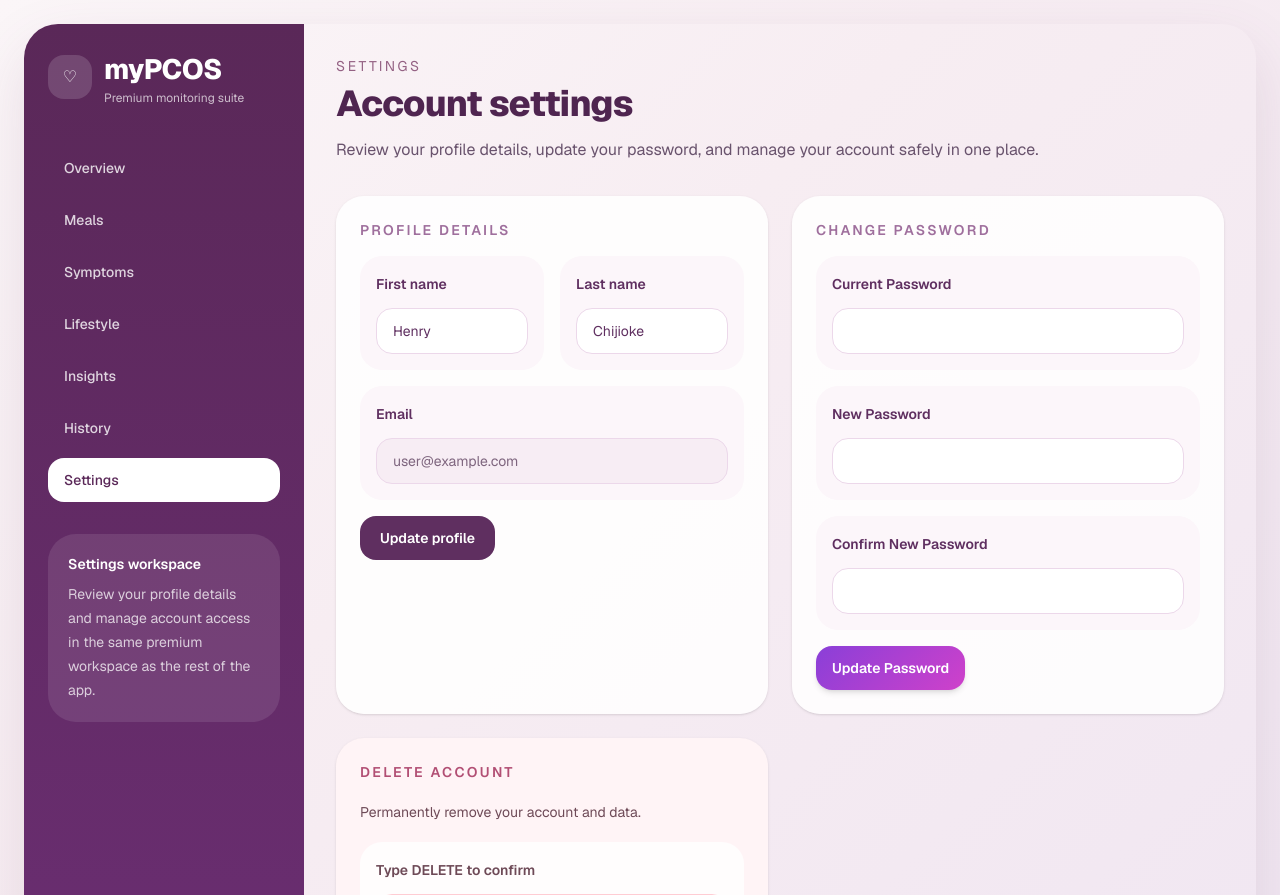
Scenario: shows an error when the current password is incorrect
The image size is (1280, 895).
In the password field labelled "Current Password": (1008, 331) [832,308,1184,354], type "WrongPass123"
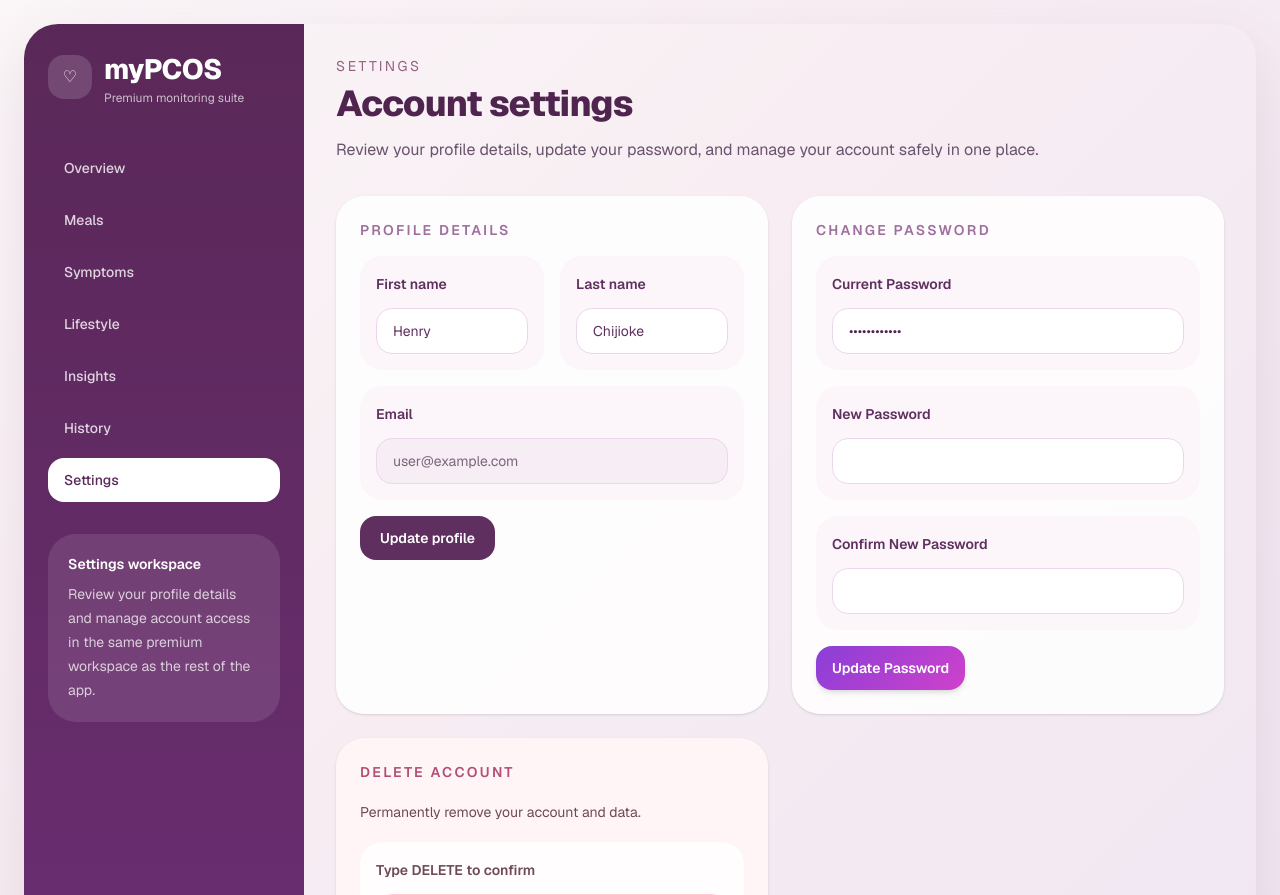
In the password field labelled "New Password": (1008, 461) [832,438,1184,484], type "NewPass456"
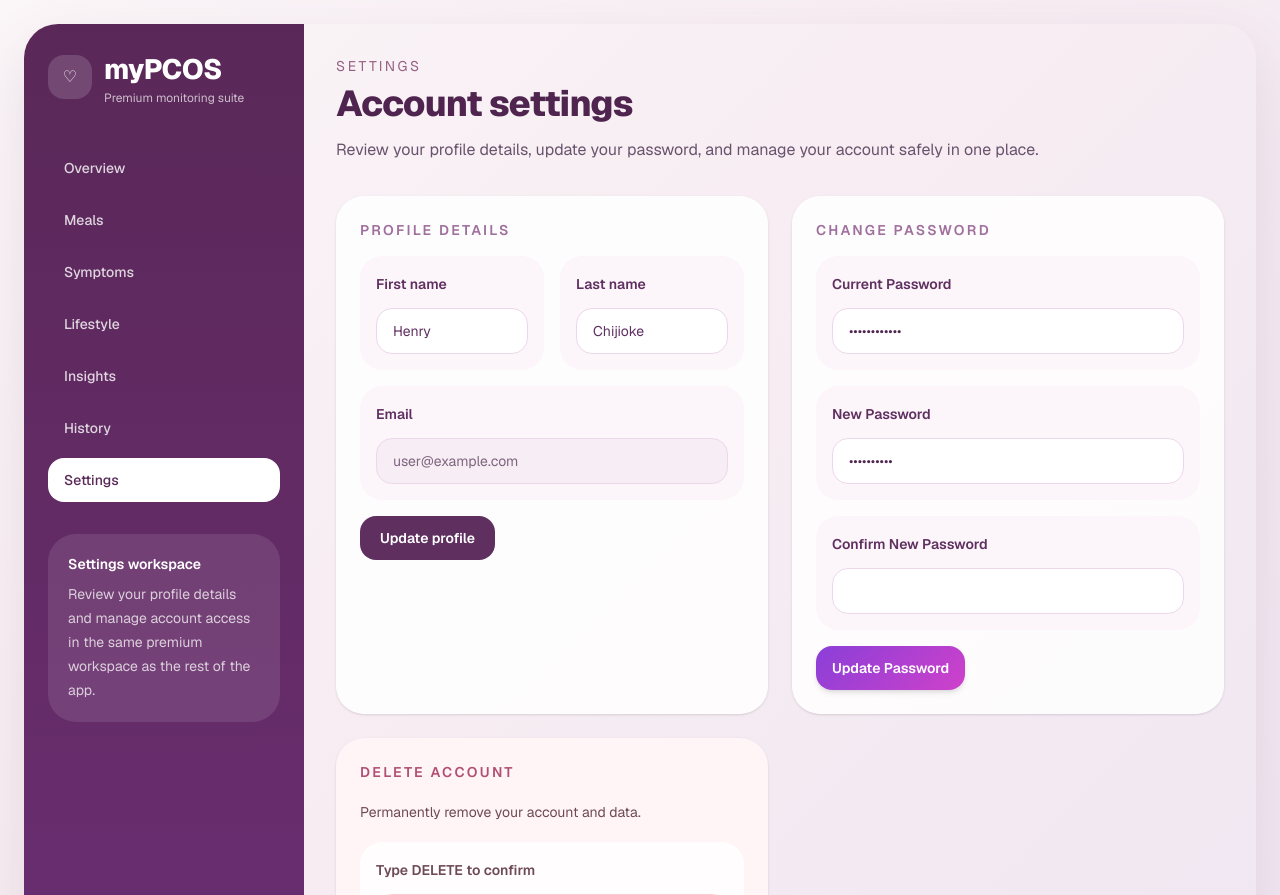
In the password field labelled "Confirm New Password": (1008, 591) [832,568,1184,614], type "NewPass456"
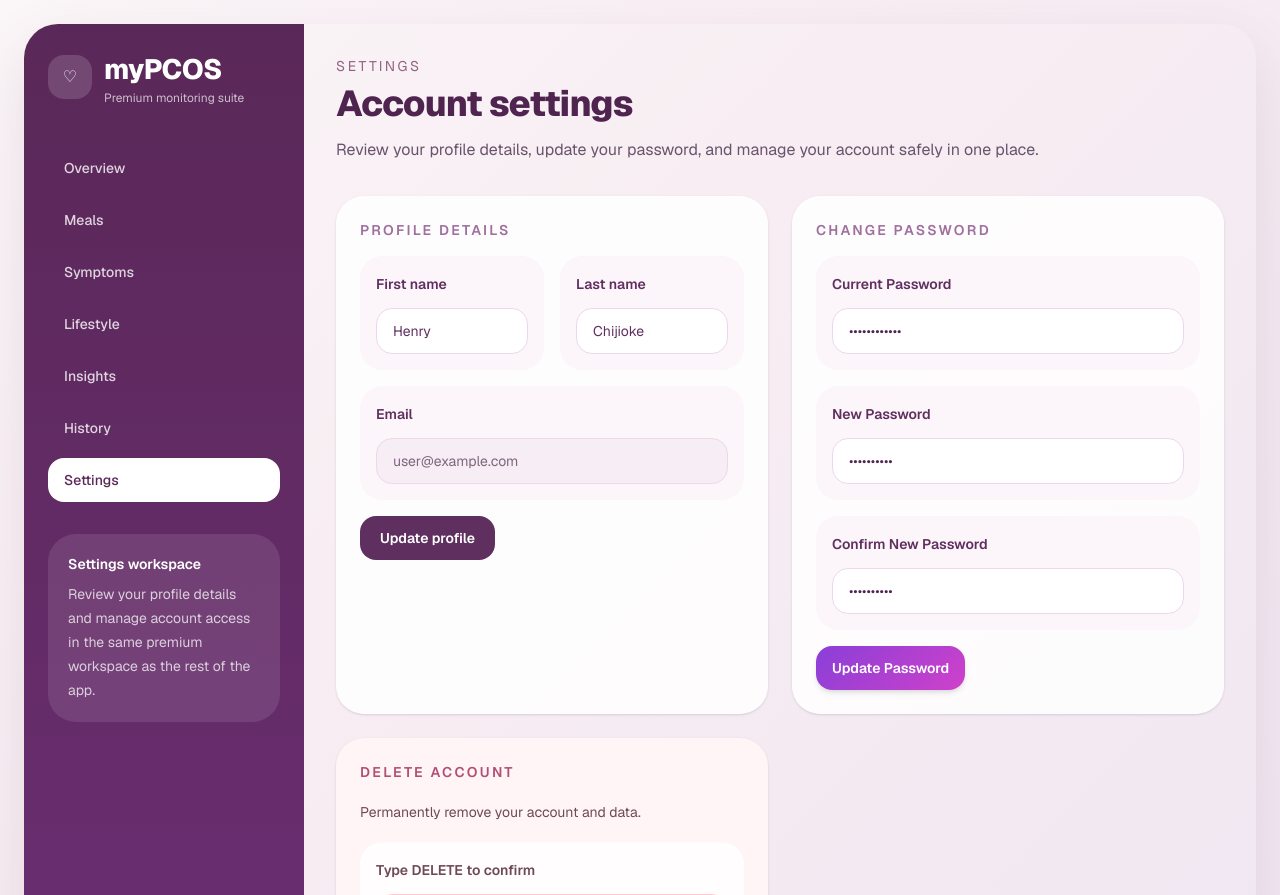
Click the button "Update Password": click(891, 668) [816,646,965,690]
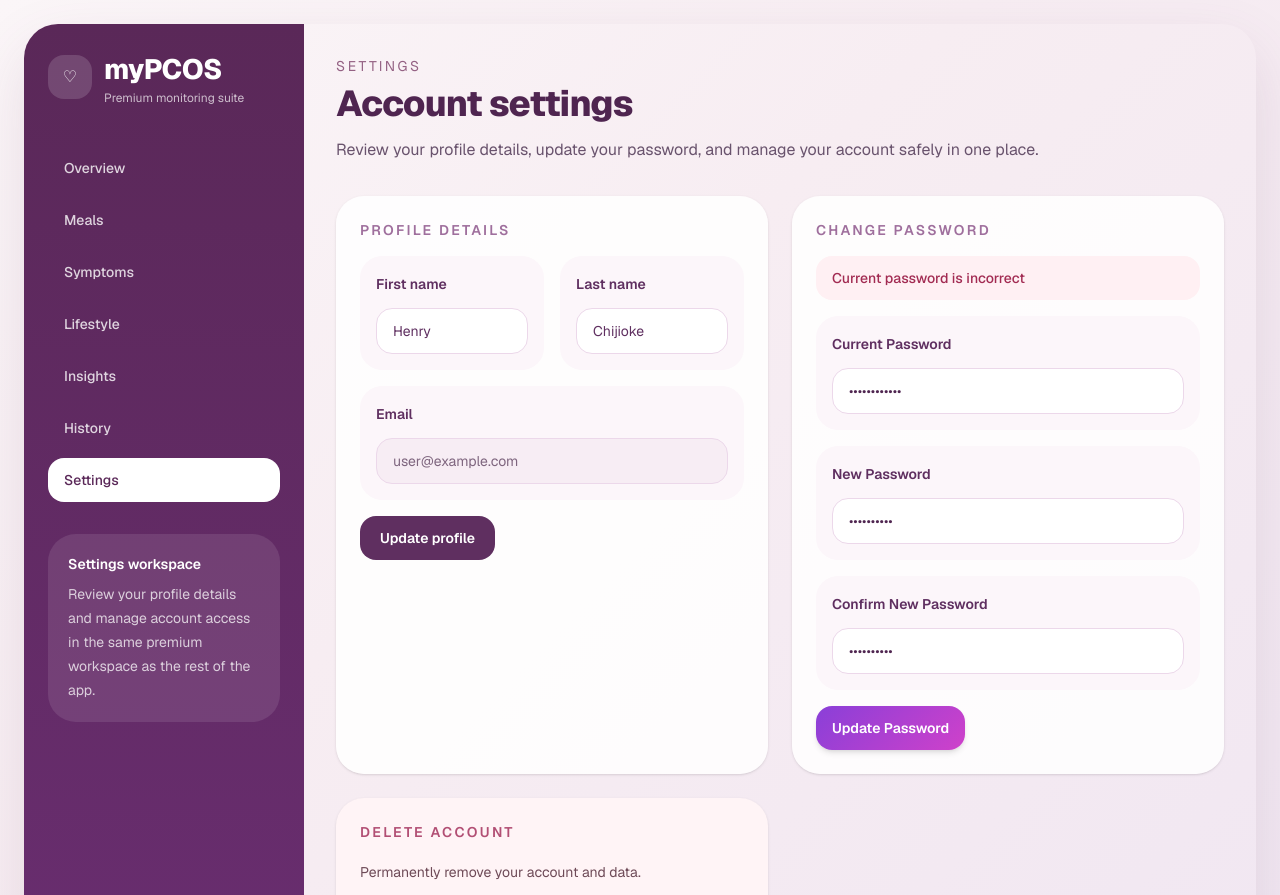
expect the text "Current password is incorrect" is shown: met, box [816,256,1200,300]
